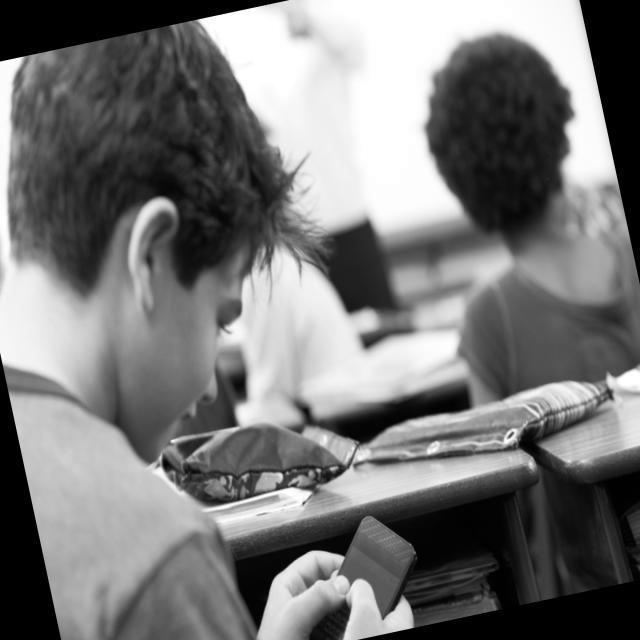phone: (281, 505, 431, 640)
